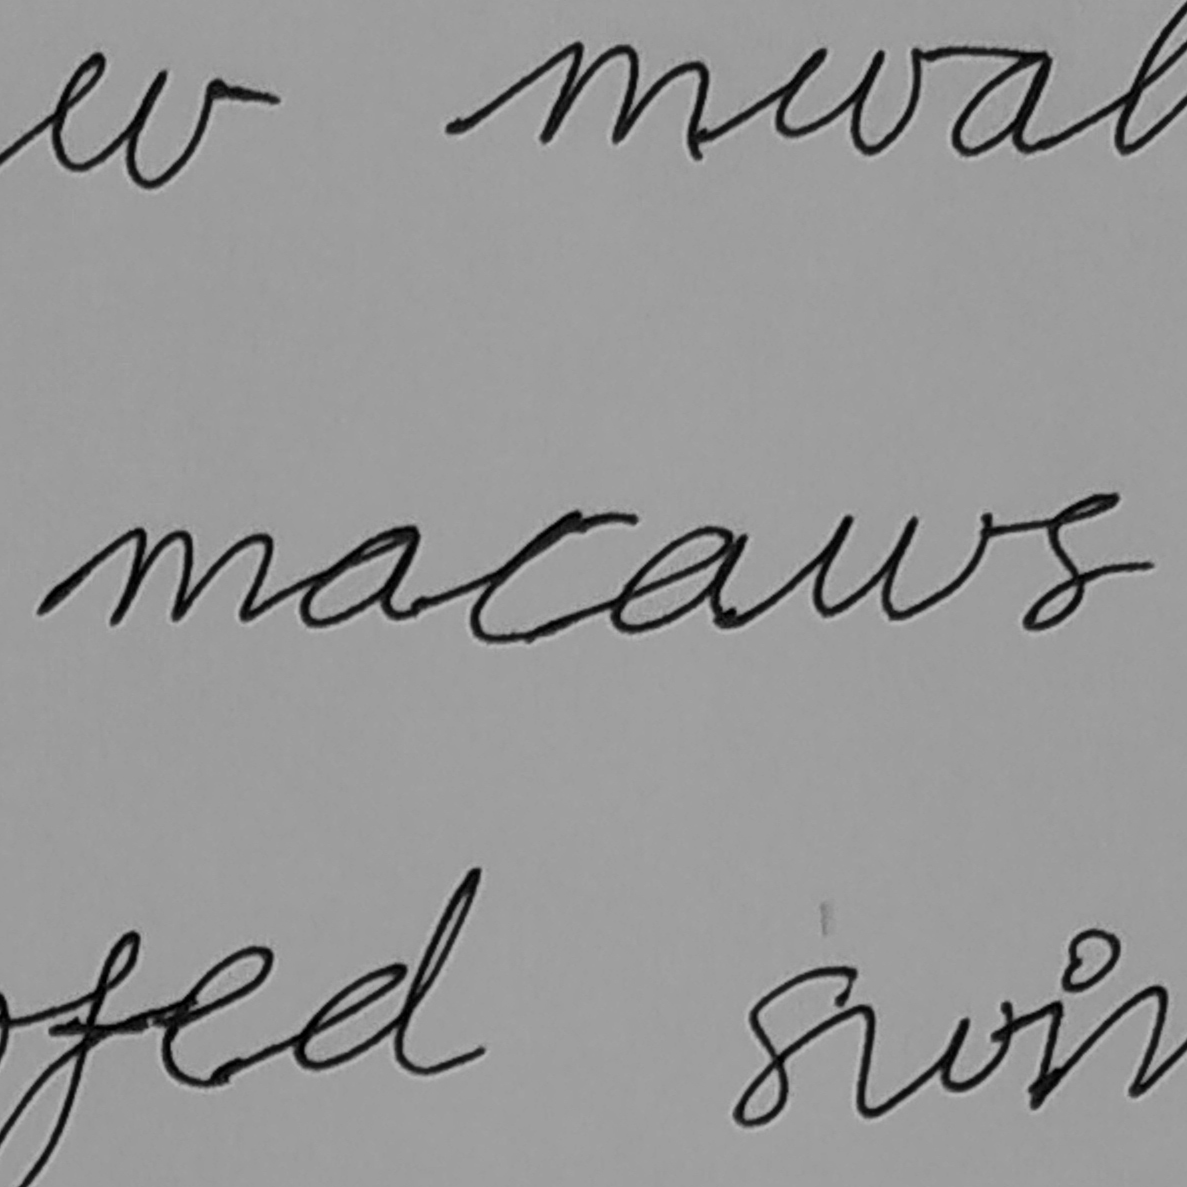a: (608, 518, 752, 642), (293, 520, 424, 632)
c: (463, 507, 641, 647)
m: (102, 524, 278, 629)
s: (1015, 485, 1124, 639)
w: (805, 504, 999, 626)
